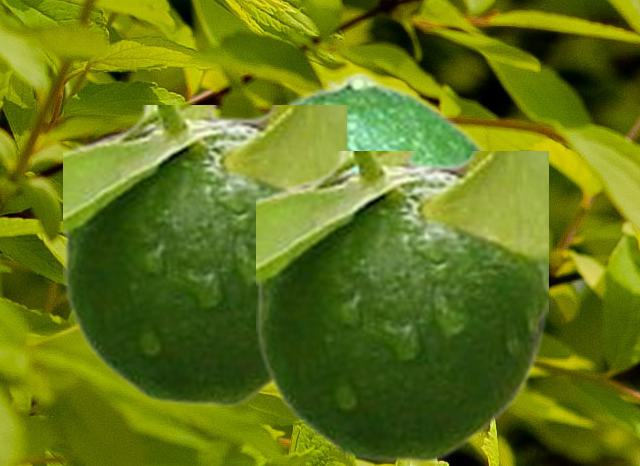dalandan: (256, 151, 547, 461), (63, 105, 345, 405), (267, 70, 489, 161)
